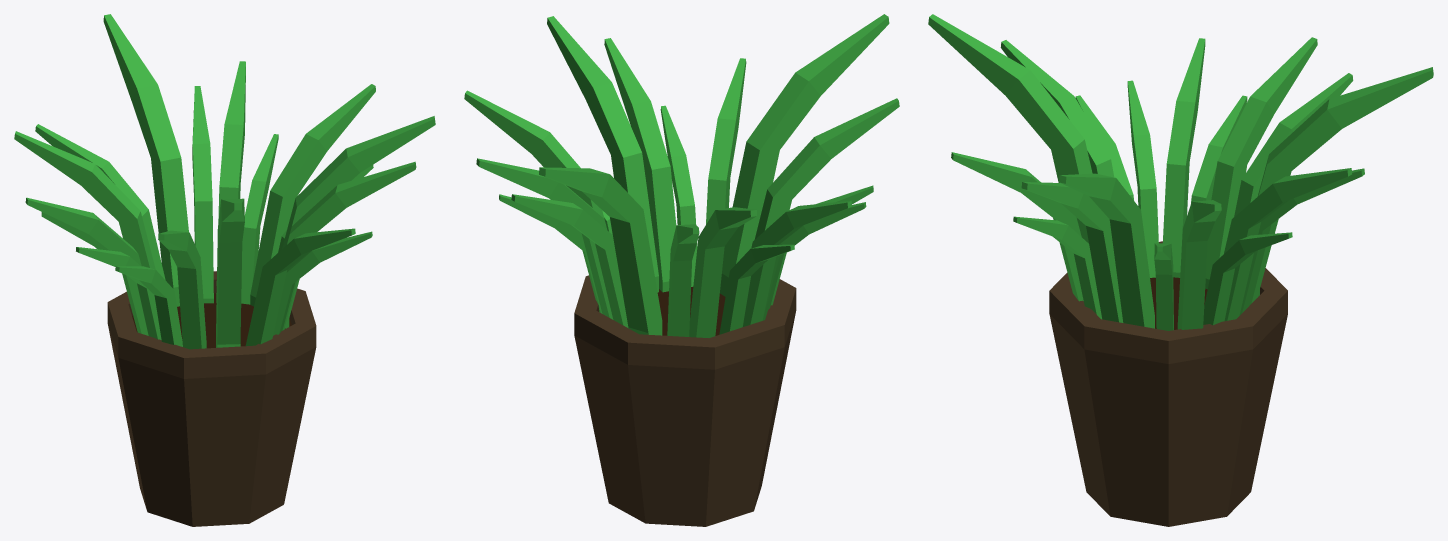
The model's file is Maceta_1.fbx.
3 renders of one model, left to right at view 1: azimuth 30°, elevation 25°; view 2: azimuth 150°, elevation 25°; view 3: azimuth 270°, elevation 25°, orthographic. The views are drawn at different scales.
Parts seen in each view (by area): view 1: Maceta, Planta.013, Planta.011, Planta, Planta.014, Planta.015, Planta.008, Planta.010, Planta.001, Planta.002, Planta.009, Planta.003 (+6 smaller); view 2: Maceta, Planta.014, Planta.013, Planta.015, Planta.002, Planta.001, Planta, Planta.008, Planta.010, Planta.009, Planta.011, Planta.003 (+6 smaller); view 3: Maceta, Planta.014, Planta, Planta.015, Planta.013, Planta.009, Planta.002, Planta.003, Planta.011, Planta.016, Planta.010, Planta.001 (+7 smaller).
Part boxes in pixels (bbox=[...]): Maceta: bbox=[107, 271, 316, 526]; Planta.013: bbox=[103, 14, 188, 306]; Planta.011: bbox=[250, 84, 375, 306]; Planta: bbox=[14, 131, 155, 269]; Planta.014: bbox=[216, 198, 244, 347]; Planta.015: bbox=[282, 116, 435, 328]; Planta.008: bbox=[192, 86, 213, 303]; Planta.010: bbox=[245, 228, 355, 346]; Planta.001: bbox=[158, 230, 206, 349]; Planta.002: bbox=[282, 161, 416, 330]; Planta.009: bbox=[25, 197, 148, 335]; Planta.003: bbox=[216, 61, 245, 302]; Maceta: bbox=[574, 275, 796, 526]; Planta.014: bbox=[720, 14, 889, 296]; Planta.013: bbox=[539, 167, 662, 335]; Planta.015: bbox=[547, 16, 658, 292]; Planta.002: bbox=[604, 38, 676, 292]; Planta.001: bbox=[754, 98, 899, 239]; Planta: bbox=[689, 207, 756, 337]; Planta.008: bbox=[511, 194, 628, 327]; Planta.010: bbox=[706, 58, 746, 224]; Planta.009: bbox=[743, 200, 851, 326]; Planta.011: bbox=[464, 90, 604, 218]; Planta.003: bbox=[476, 158, 613, 319]; Maceta: bbox=[1049, 241, 1287, 526]; Planta.014: bbox=[928, 14, 1092, 243]; Planta: bbox=[1205, 37, 1317, 289]; Planta.015: bbox=[1059, 173, 1154, 328]; Planta.013: bbox=[1251, 67, 1433, 302]; Planta.009: bbox=[1162, 38, 1205, 277]; Planta.002: bbox=[1021, 182, 1123, 322]; Planta.003: bbox=[1224, 168, 1351, 320]; Planta.011: bbox=[1177, 200, 1221, 329]; Planta.016: bbox=[1127, 80, 1158, 277]; Planta.010: bbox=[951, 152, 1083, 301]; Planta.001: bbox=[1000, 40, 1114, 177].
Size of the model in its own units: 4079 by 4294 by 4546.
